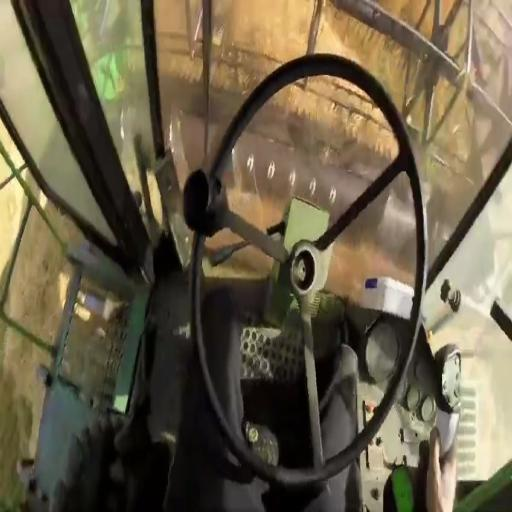arpa: (316, 7, 408, 99), (4, 210, 69, 335), (231, 0, 312, 60), (0, 185, 27, 289), (46, 206, 83, 240), (22, 171, 48, 209), (0, 320, 25, 355), (0, 123, 21, 163), (385, 0, 424, 15)
